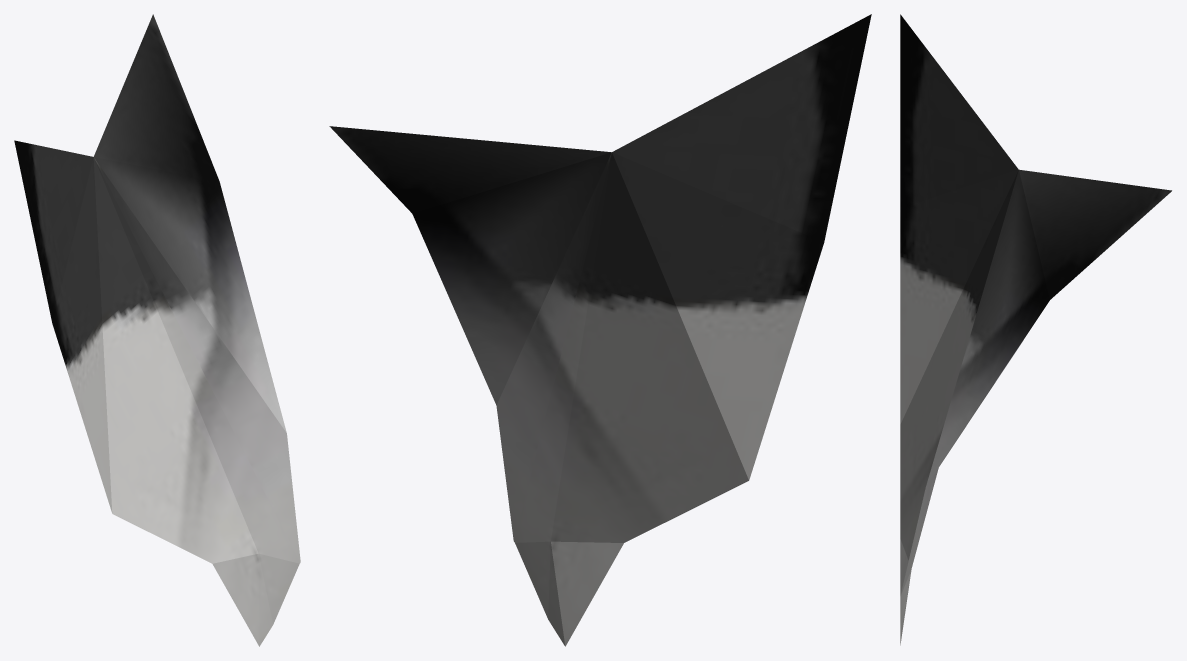
3 views of the same model, side by side, from view 1: azimuth 30°, elevation 25°; view 2: azimuth 150°, elevation 25°; view 3: azimuth 270°, elevation 25° (orthographic). The views are drawn at different scales.
Size of the model in its own units: 3.36 by 6.35 by 3.
1 material, 1 textured.
